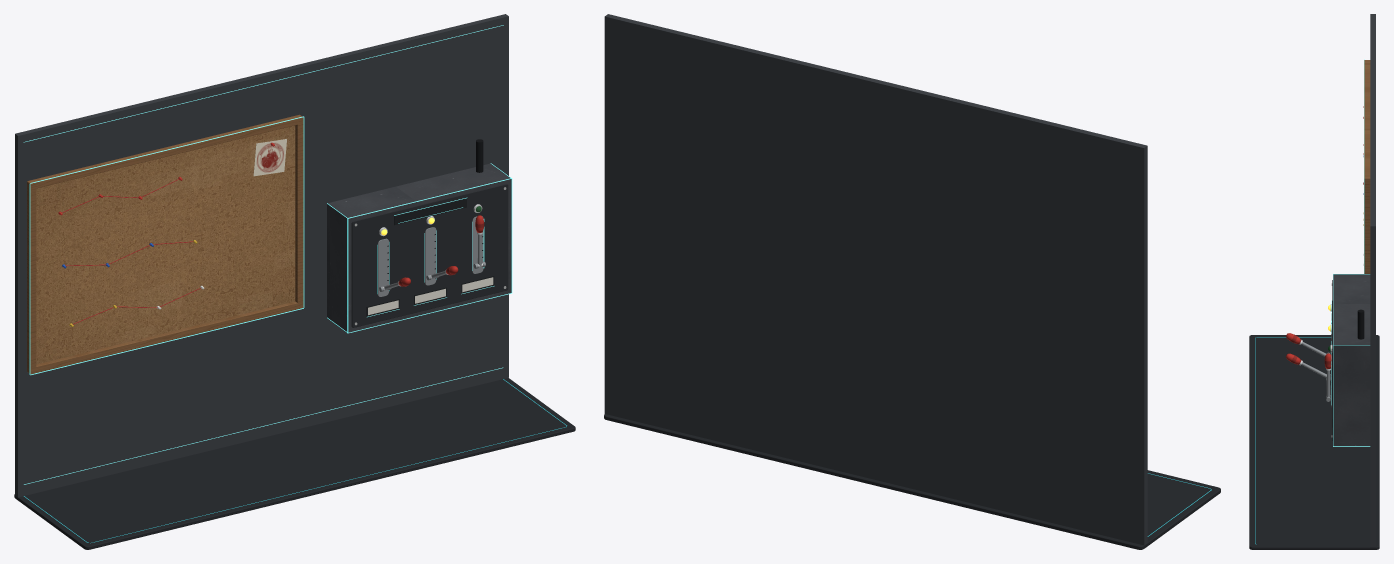
File: rec-cortica-alavancas.glb
3 views of the same model, side by side, from view 1: azimuth 30°, elevation 25°; view 2: azimuth 150°, elevation 25°; view 3: azimuth 270°, elevation 25° (orthographic). The views are drawn at different scales.
Visible parts, largest first — view 1: parede, cortica_area_texto, base_peca, painel_face, cortica_moldura, painel_caixa, cortica_cartao_carimbo_papel, painel_placa_topo; view 2: parede, base_peca; view 3: base_peca, painel_caixa, parede, cortica_moldura, base_peca_linha, painel_conduite.
Boxes of the visible parts, left/top/right/bottom form: parede: left=15, top=14, right=508, bottom=497; cortica_area_texto: left=36, top=125, right=295, bottom=364; base_peca: left=14, top=378, right=575, bottom=549; painel_face: left=351, top=184, right=508, bottom=327; cortica_moldura: left=27, top=114, right=303, bottom=374; painel_caixa: left=327, top=163, right=511, bottom=332; cortica_cartao_carimbo_papel: left=253, top=139, right=286, bottom=176; painel_placa_topo: left=394, top=198, right=466, bottom=225; parede: left=604, top=14, right=1147, bottom=545; base_peca: left=604, top=414, right=1220, bottom=549; base_peca: left=1249, top=335, right=1379, bottom=549; painel_caixa: left=1333, top=274, right=1370, bottom=446; parede: left=1370, top=14, right=1375, bottom=547; cortica_moldura: left=1364, top=60, right=1370, bottom=273; base_peca_linha: left=1255, top=337, right=1330, bottom=544; painel_conduite: left=1357, top=309, right=1364, bottom=339.
Size of the model in its own units: 2.7 by 1.92 by 0.7.
Materials: 25 (4 with a texture image).
